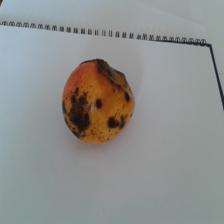Mango Rotten: (59, 57, 141, 145)
